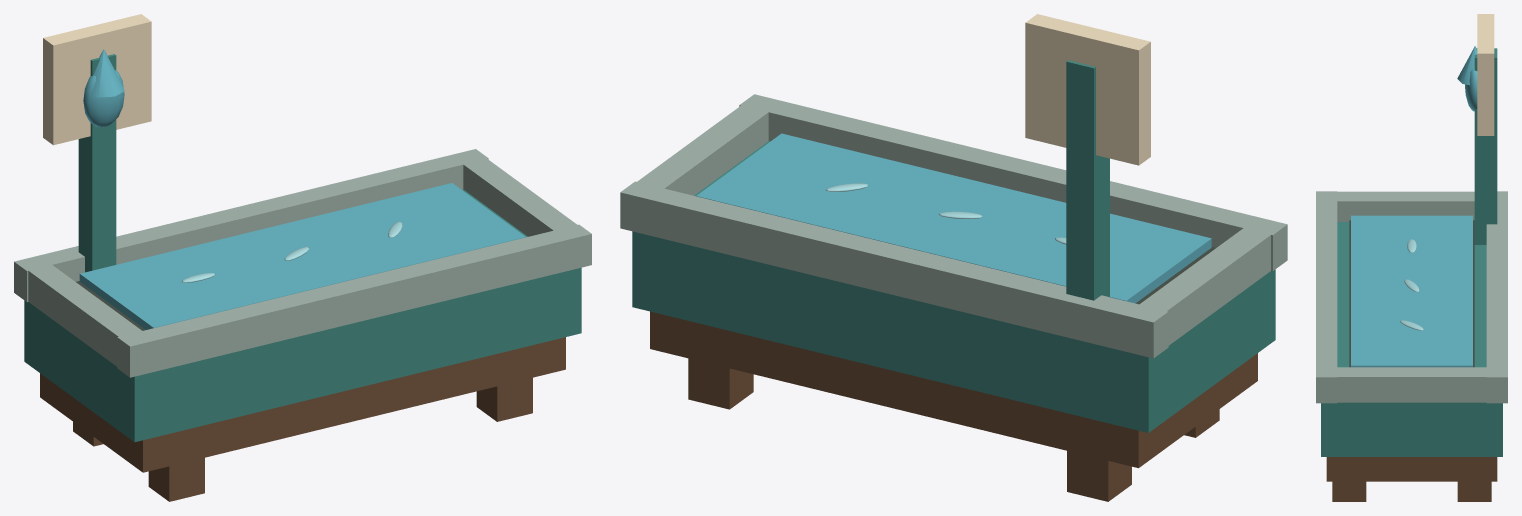
The model's file is water-trough.glb.
3 renders of one model, left to right at view 1: azimuth 30°, elevation 25°; view 2: azimuth 150°, elevation 25°; view 3: azimuth 270°, elevation 25°, orthographic. The views are drawn at different scales.
Visible parts, largest first — view 1: water-trough_teal, water-trough_metal, water-trough_water, water-trough_woodDark, water-trough_cream; view 2: water-trough_teal, water-trough_metal, water-trough_water, water-trough_woodDark, water-trough_cream; view 3: water-trough_water, water-trough_metal, water-trough_teal, water-trough_woodDark, water-trough_cream, water-trough_shadow, water-trough_waterLight.
Part boxes in pixels (<box>): water-trough_teal: <box>24,54,581,442</box>; water-trough_metal: <box>14,149,591,377</box>; water-trough_water: <box>79,49,525,329</box>; water-trough_woodDark: <box>40,337,565,501</box>; water-trough_cream: <box>43,14,151,145</box>; water-trough_teal: <box>632,60,1275,432</box>; water-trough_metal: <box>620,94,1287,358</box>; water-trough_water: <box>696,133,1211,303</box>; water-trough_woodDark: <box>650,311,1257,501</box>; water-trough_cream: <box>1025,14,1150,165</box>; water-trough_water: <box>1351,46,1477,367</box>; water-trough_metal: <box>1316,191,1507,403</box>; water-trough_teal: <box>1321,48,1502,456</box>; water-trough_woodDark: <box>1326,457,1497,501</box>; water-trough_cream: <box>1477,14,1494,135</box>; water-trough_shadow: <box>1349,220,1474,367</box>; water-trough_waterLight: <box>1400,239,1423,330</box>.
Size of the model in its own units: 1.55 by 1.28 by 0.675.
